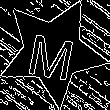M_N: (26, 23, 80, 80)
